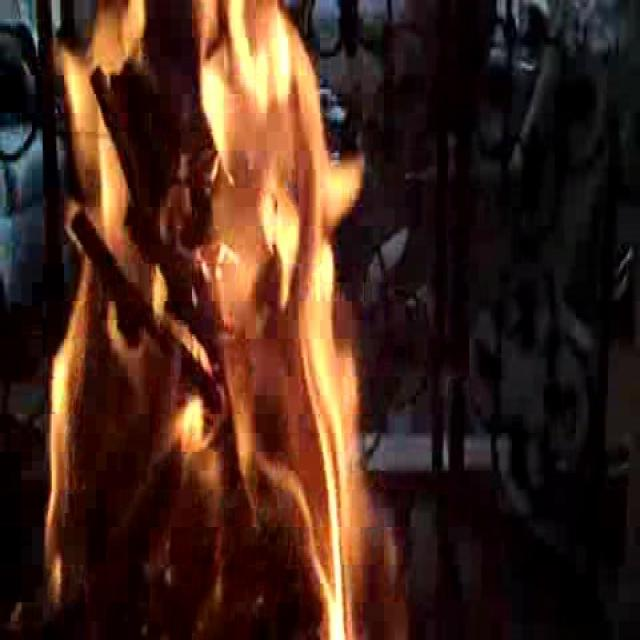fire: (46, 5, 372, 618)
